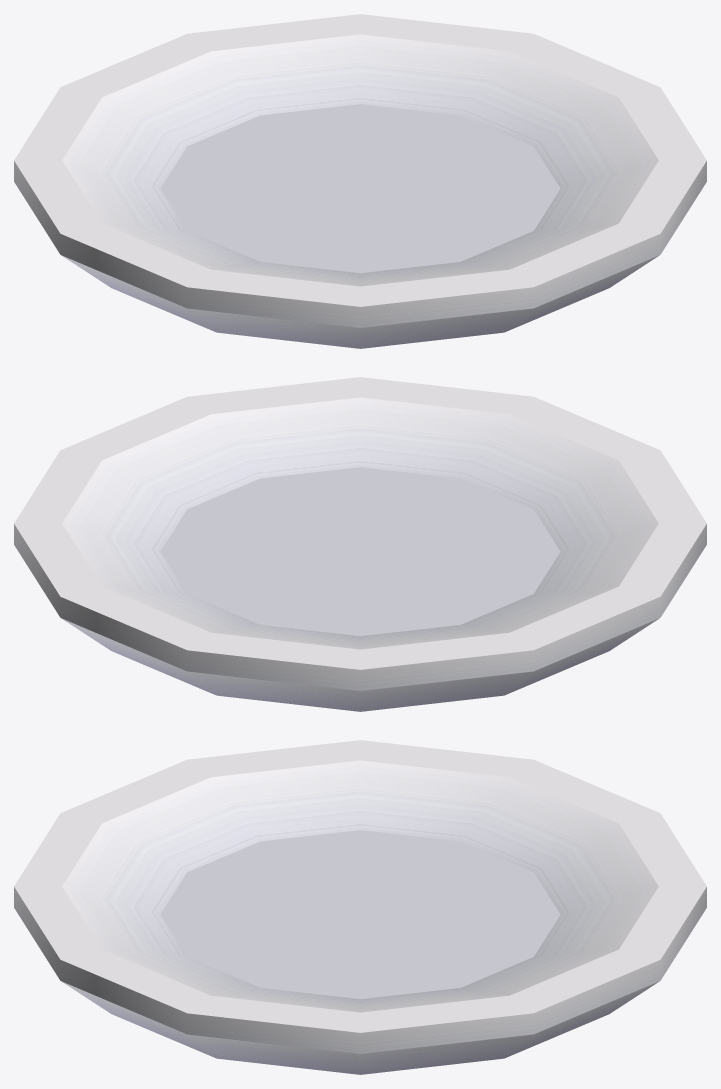
File: cup-saucer.glb
3 views of the same model, one above another, from view 1: azimuth 30°, elevation 25°; view 2: azimuth 150°, elevation 25°; view 3: azimuth 270°, elevation 25° (orthographic).
Parts seen in each view (by area): view 1: cup-saucer; view 2: cup-saucer; view 3: cup-saucer.
Part boxes in pixels (<box>): cup-saucer: <box>14,14,706,348</box>; cup-saucer: <box>14,377,706,711</box>; cup-saucer: <box>14,740,706,1074</box>.
Size of the model in its own units: 0.3567 by 0.038 by 0.3567.
Materials: 1 (1 with a texture image).
